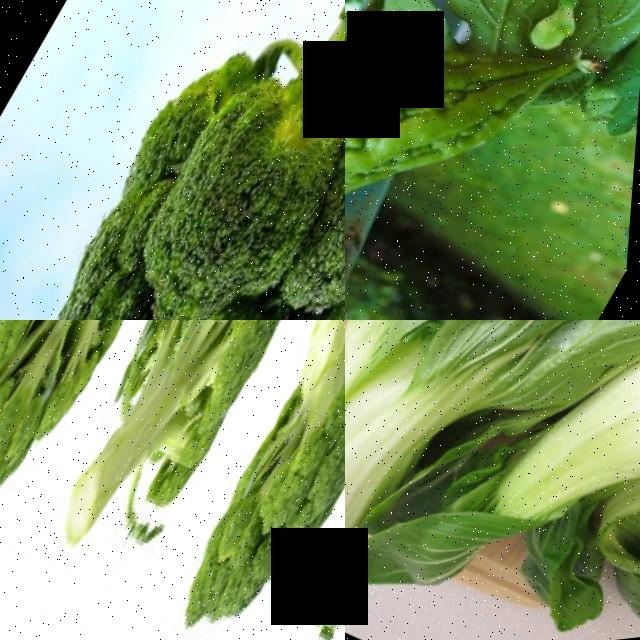bitter gourd: (345, 0, 586, 320)
bok choy: (345, 320, 640, 628), (428, 320, 640, 640)
broccoli: (0, 0, 345, 320), (0, 320, 345, 640), (105, 320, 345, 640), (0, 320, 255, 620), (266, 320, 345, 640)
